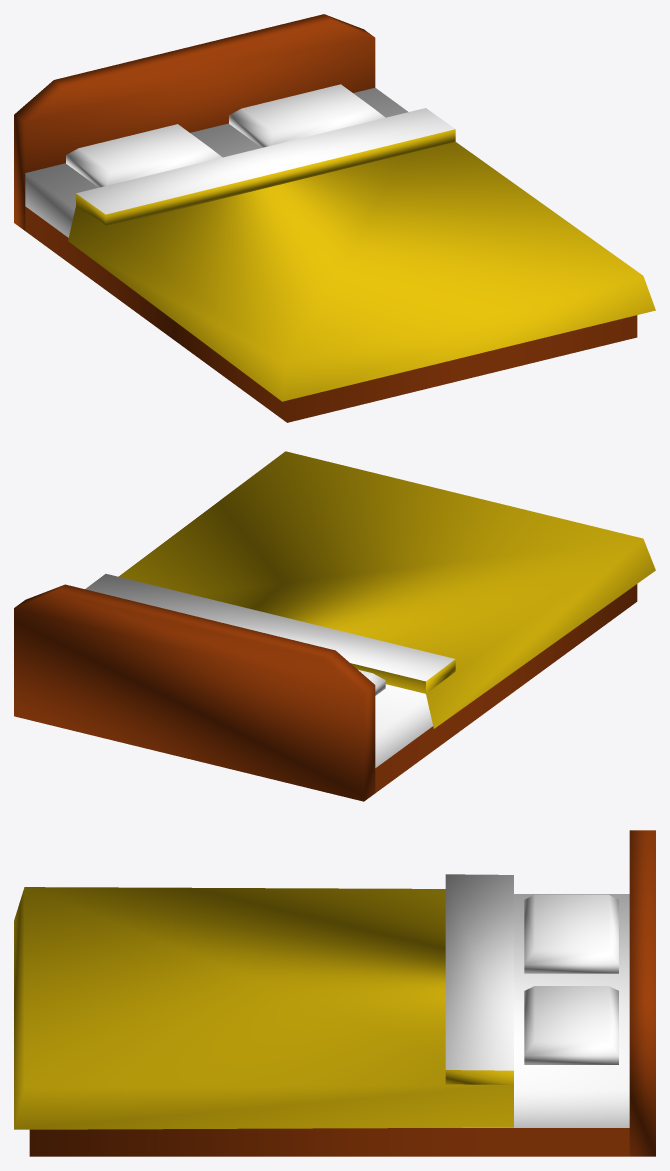
File: QueenBed.fbx
3 views of the same model, one above another, from view 1: azimuth 30°, elevation 25°; view 2: azimuth 150°, elevation 25°; view 3: azimuth 270°, elevation 25° (orthographic). The views are drawn at different scales.
Visible parts, largest first — view 1: Cube; view 2: Cube; view 3: Cube.
Boxes of the visible parts, x1,y1,x2,y2 form: Cube: (14,14,655,422); Cube: (14,451,655,801); Cube: (14,830,655,1156).
Size of the model in its own units: 2.94 by 1 by 3.81.
1 material, 1 textured.
